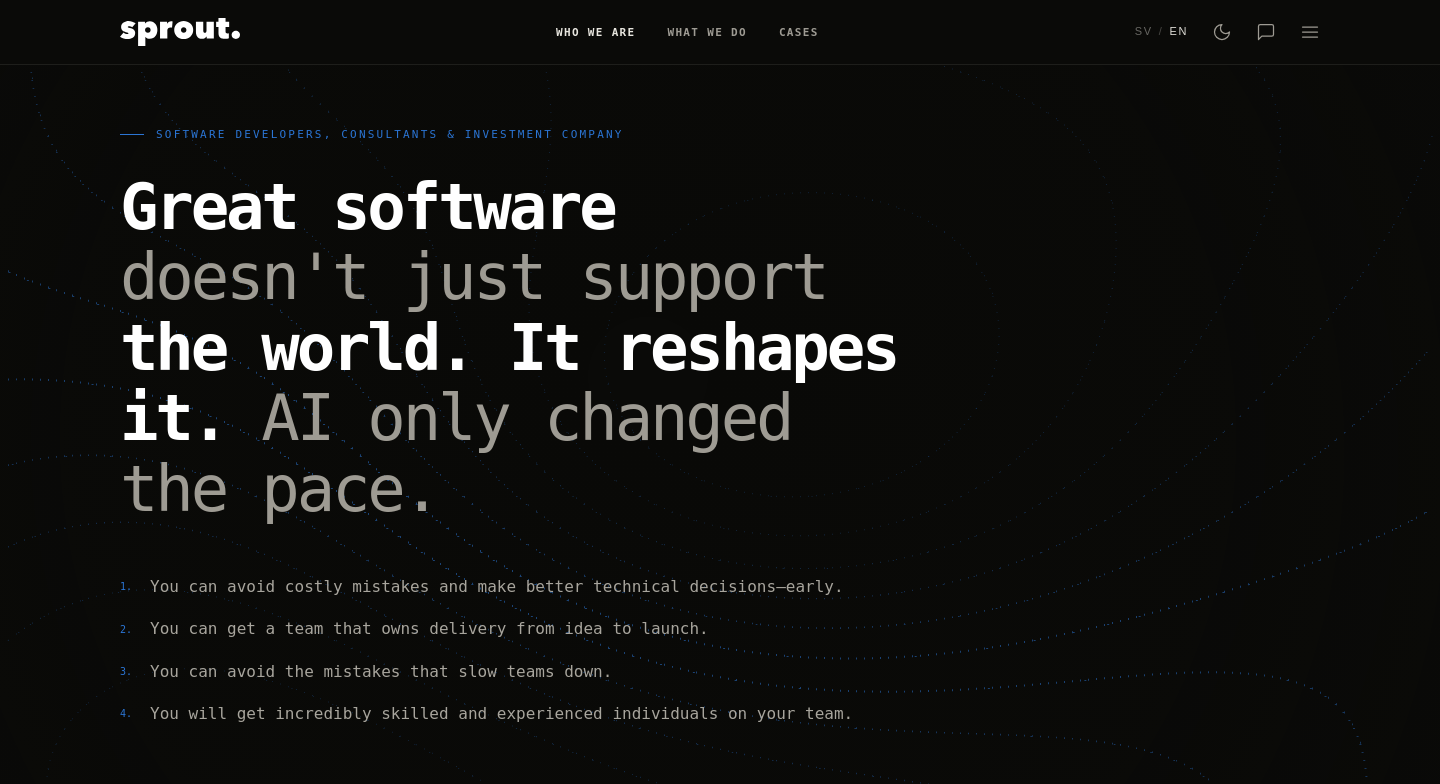
Test case: App › persists the selected theme mode
What coordinates should you click on to do the following:
click the button named "switch to light theme"
I would click on:
 (1222, 32)
Its box is [1212,22,1232,42].
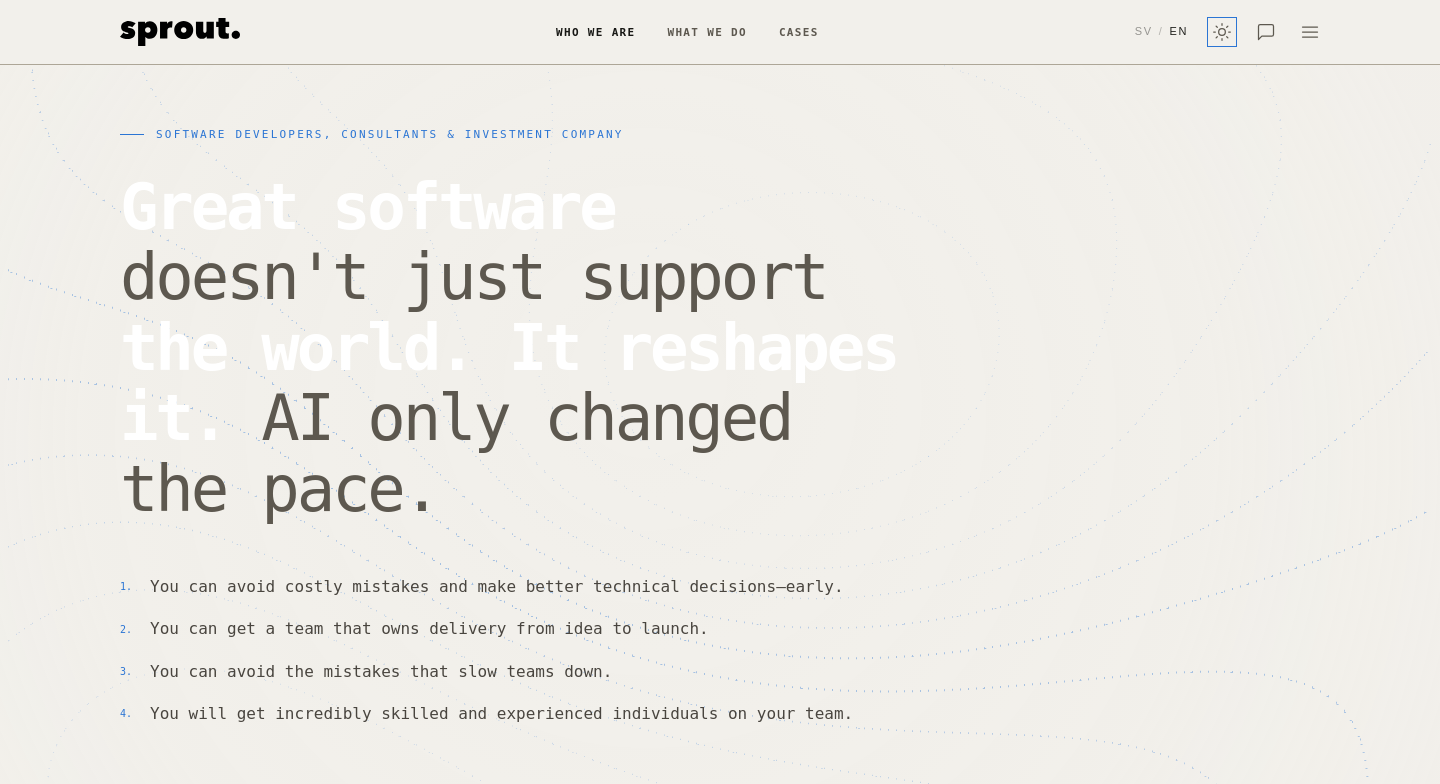
Result: the button named "switch to dark theme" is shown at [1212,22,1232,42]
